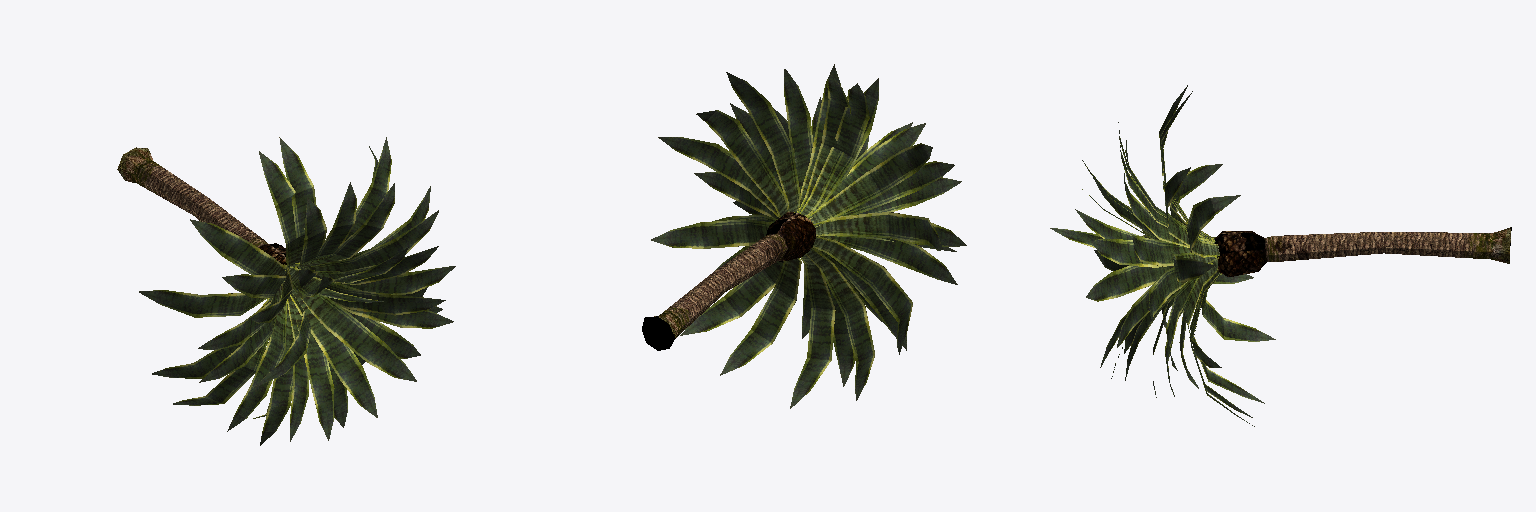
3 renders of one model, left to right at view 1: azimuth 30°, elevation 25°; view 2: azimuth 150°, elevation 25°; view 3: azimuth 270°, elevation 25°, orthographic.
Visible parts, largest first — view 1: ENV_MP_palm_tree_01; view 2: ENV_MP_palm_tree_01; view 3: ENV_MP_palm_tree_01.
Part boxes in pixels (x1,y1,x2,y2): ENV_MP_palm_tree_01: (117,137,455,445); ENV_MP_palm_tree_01: (642,64,966,408); ENV_MP_palm_tree_01: (1050,85,1511,426).
Bounding box in the file's own units: 80.89 × 81.82 × 111.
Materials: 2 (2 with a texture image).